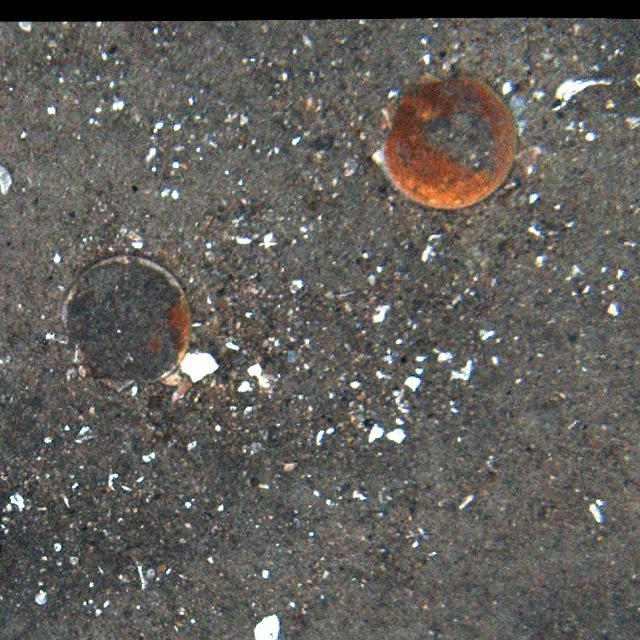scallop: (385, 70, 518, 211), (64, 253, 189, 380)
